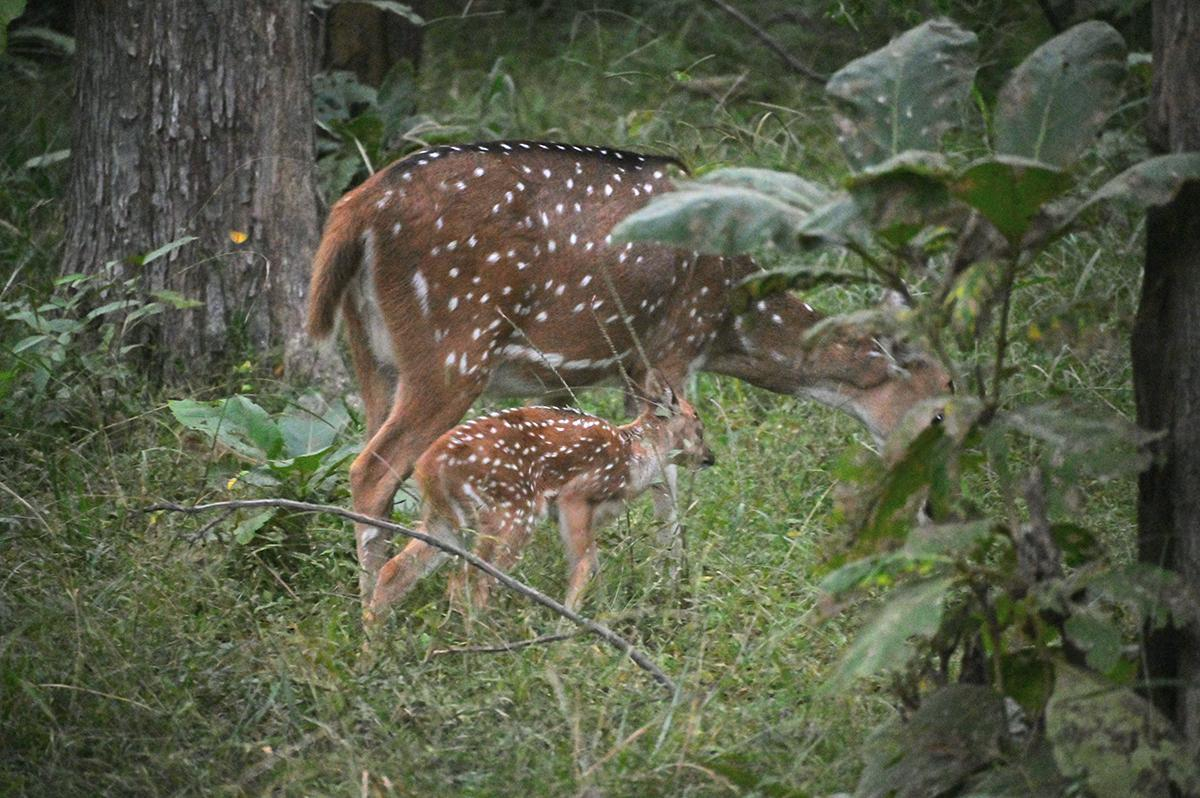Deer: (306, 141, 952, 515), (370, 374, 714, 614)
